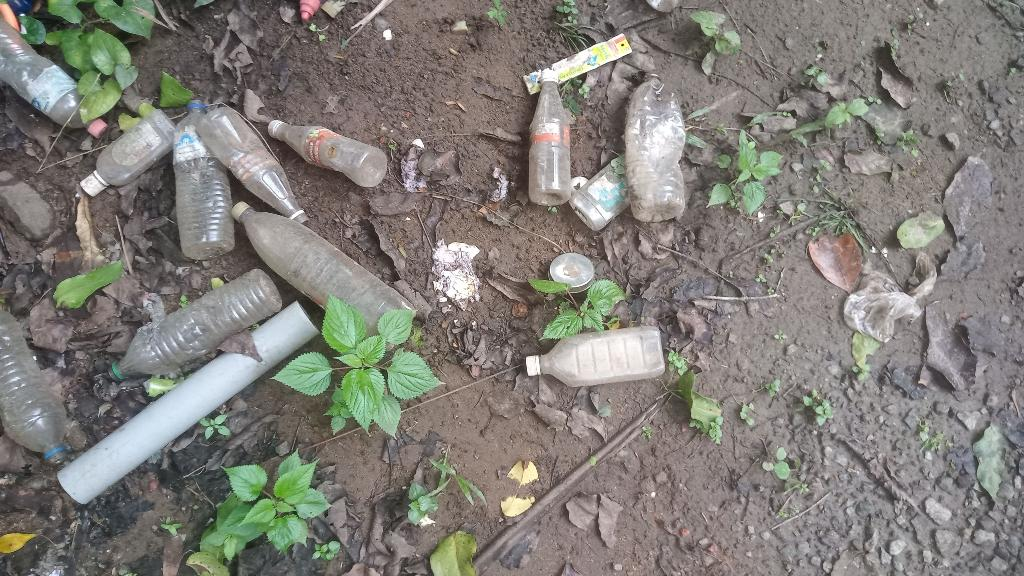garbage: (280, 158, 358, 379), (616, 63, 702, 230), (94, 291, 284, 365), (162, 91, 238, 257), (0, 24, 107, 141), (520, 319, 673, 397), (259, 110, 389, 199), (0, 307, 68, 464), (519, 61, 575, 206), (230, 90, 280, 239), (66, 119, 180, 182), (566, 146, 628, 231)
